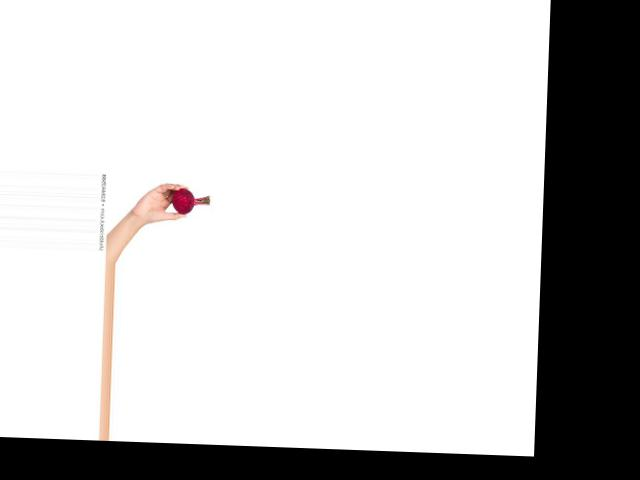beet: (172, 187, 210, 214)
